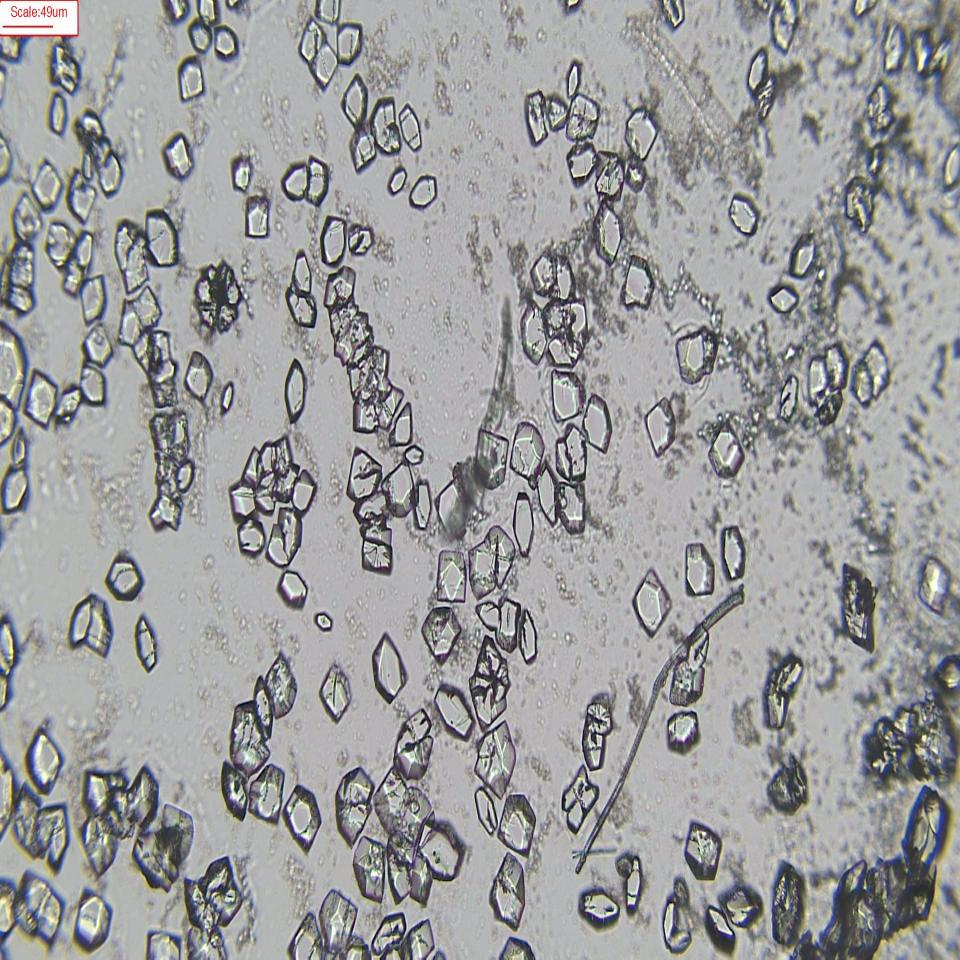crystal: (767, 748, 816, 826), (768, 850, 806, 950), (842, 564, 880, 652), (265, 649, 304, 729), (490, 850, 528, 930), (418, 817, 464, 883), (474, 724, 514, 796), (394, 708, 435, 777), (632, 567, 672, 636), (317, 888, 357, 957), (335, 767, 371, 842), (371, 633, 409, 701), (26, 726, 64, 794), (841, 172, 877, 243), (221, 760, 256, 832), (284, 784, 322, 848), (498, 789, 536, 853), (684, 819, 722, 882), (353, 829, 387, 899), (433, 681, 474, 738), (421, 605, 460, 664), (721, 874, 760, 933), (561, 766, 597, 829), (510, 416, 546, 478), (246, 764, 285, 820), (74, 890, 112, 946), (644, 395, 678, 457), (700, 896, 736, 954), (474, 427, 508, 488), (318, 658, 351, 719), (144, 209, 178, 268), (707, 423, 744, 477), (248, 682, 280, 744), (518, 301, 549, 364), (918, 555, 950, 615), (25, 369, 58, 427), (676, 326, 706, 388), (683, 541, 715, 599), (621, 258, 654, 314), (101, 553, 142, 598), (527, 84, 550, 163), (435, 549, 467, 605), (625, 105, 658, 159), (768, 0, 800, 55), (132, 609, 160, 671), (317, 211, 348, 266), (550, 369, 584, 419), (281, 286, 321, 328), (183, 350, 215, 402), (566, 91, 598, 143), (242, 189, 272, 243), (778, 371, 804, 433), (595, 202, 622, 261), (594, 151, 625, 202), (284, 356, 308, 421), (343, 71, 370, 128), (163, 132, 195, 180), (277, 156, 310, 202), (720, 525, 747, 581), (786, 230, 816, 279), (347, 218, 378, 265), (584, 394, 610, 448), (44, 215, 72, 265), (45, 87, 69, 145), (940, 133, 960, 202), (728, 194, 760, 237), (564, 142, 597, 183), (79, 275, 106, 325), (178, 54, 206, 102), (663, 897, 691, 945), (33, 158, 60, 207), (236, 518, 267, 560), (277, 567, 310, 606), (400, 107, 426, 156), (291, 246, 318, 293), (667, 712, 700, 750), (70, 171, 96, 219), (216, 372, 239, 426), (352, 129, 378, 176), (83, 324, 113, 364), (79, 364, 107, 402), (413, 174, 440, 211), (626, 155, 647, 202), (212, 24, 238, 61), (338, 25, 362, 63), (188, 16, 212, 54), (231, 153, 253, 191), (769, 284, 797, 312), (750, 48, 767, 88), (313, 606, 336, 634), (384, 167, 405, 197), (565, 55, 580, 97)
not_crystal: (349, 453, 416, 573), (232, 448, 304, 506), (77, 113, 125, 193), (118, 294, 164, 365), (469, 528, 516, 592), (809, 346, 847, 416), (301, 19, 337, 89), (582, 697, 614, 766), (555, 425, 588, 479)
